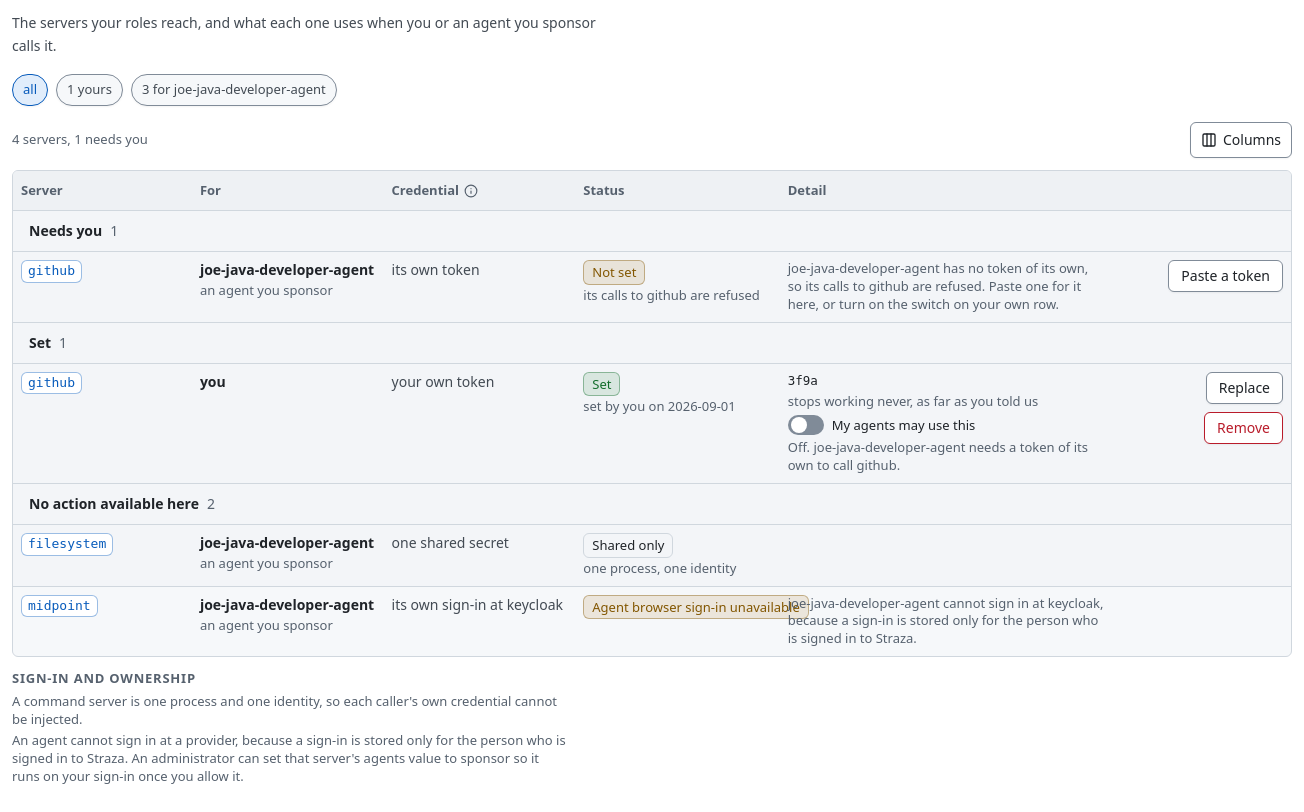
Scenario: the Credentials tab › patches the agents switch once and says what it means
The image size is (1304, 812).
What coordinates should you click on to do the following:
click the switch named "My agents may use this"
I would click on:
 (806, 425)
Its box is x1=788 y1=415 x2=824 y2=435.
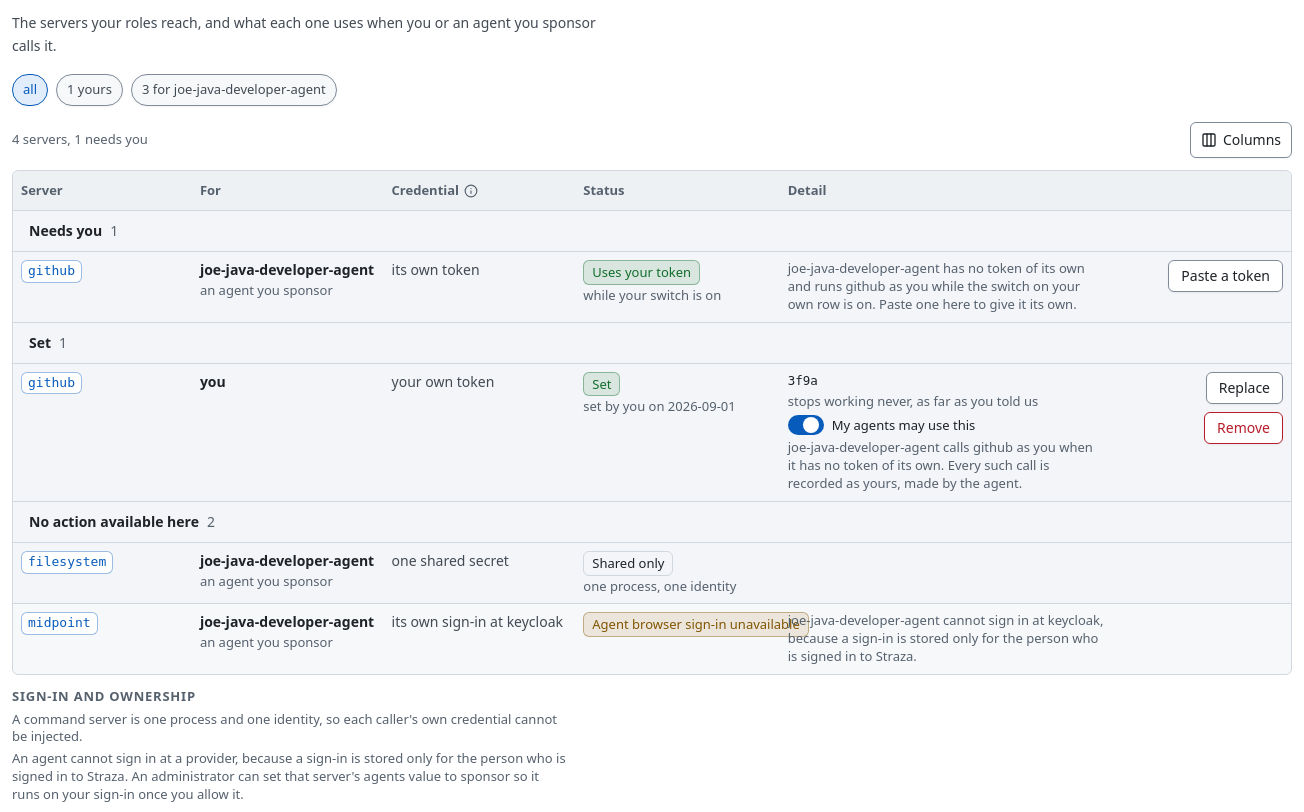
Expected: the text "Uses your token" is shown, x1=583 y1=260 x2=700 y2=285
